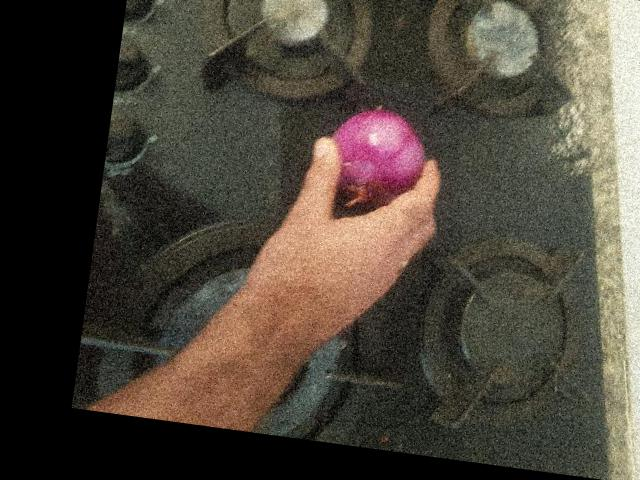onion: (514, 46, 624, 155)
